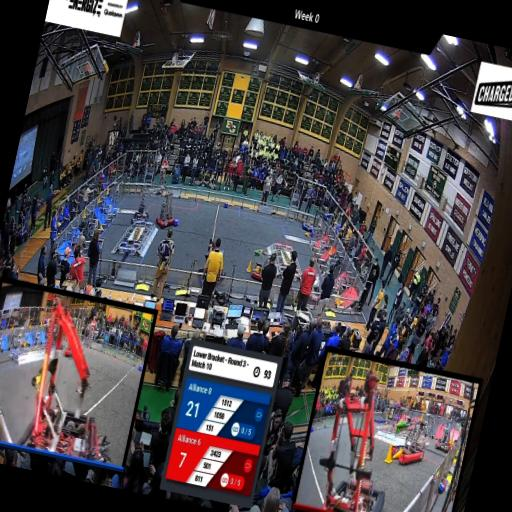robot: (196, 230, 234, 284), (304, 262, 330, 308), (152, 190, 180, 232), (128, 191, 153, 230), (248, 252, 272, 286), (300, 210, 317, 233)
